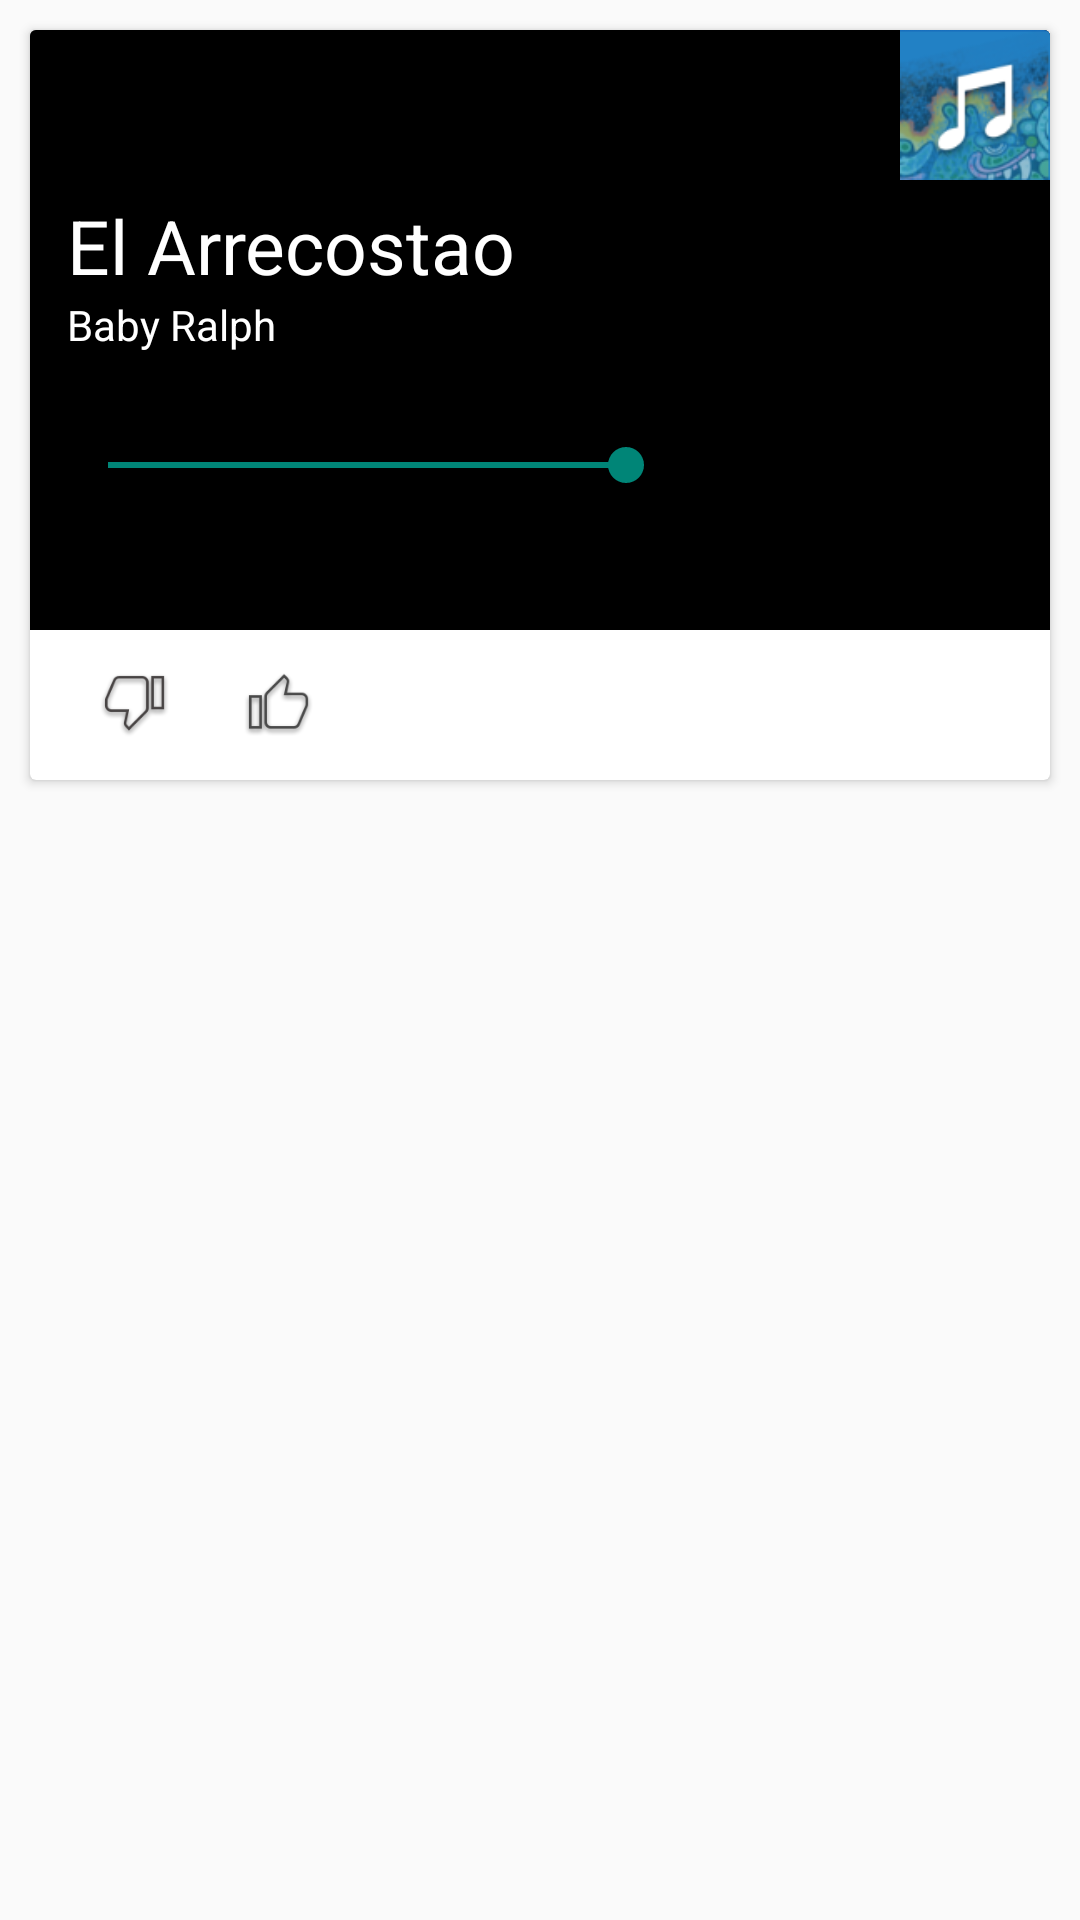

Icon click points for this 1080x1920 phone screenshot, format (x,y):
manito abajo: (134,704)
manito arriba outlinex: (278,703)
musica: (975,105)
